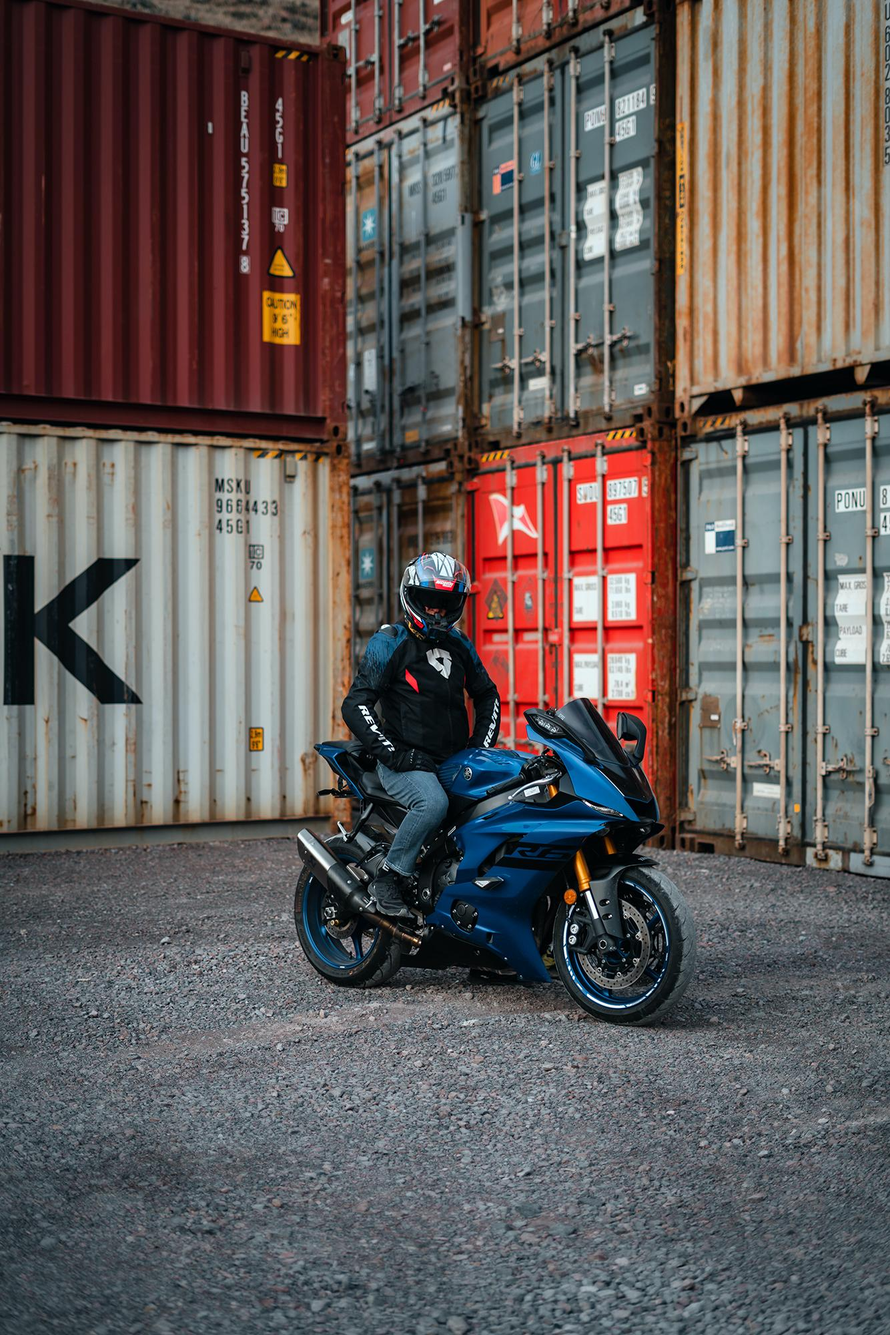helmet: (399, 550, 472, 644)
